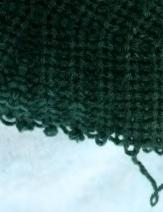snag: (128, 136, 163, 206)
